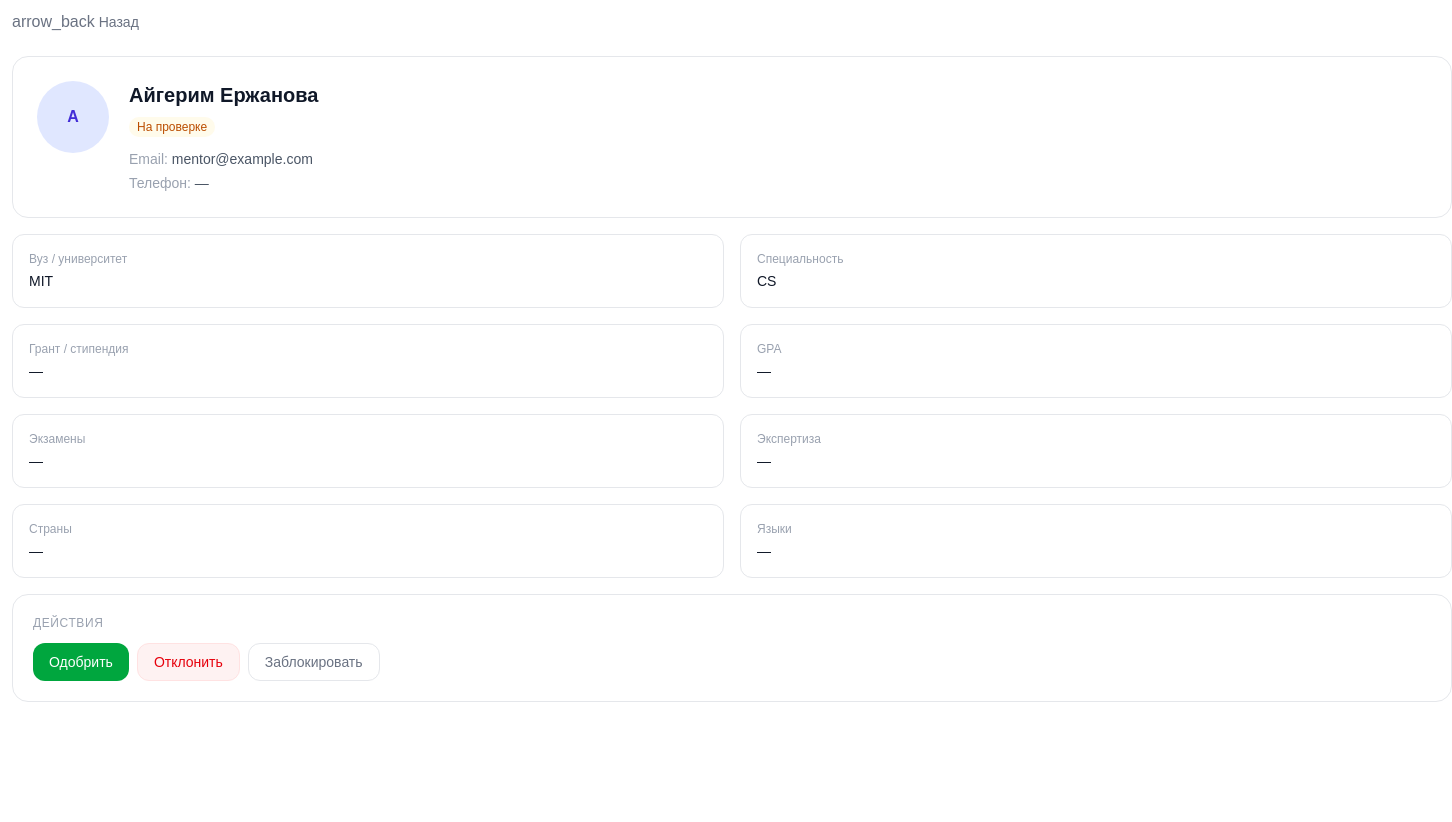
Test: CRMMentorDetailPage › rejects a submitted, unapproved mentor
The width and height of the screenshot is (1452, 822).
Expected: the heading "Айгерим Ержанова" is shown, x1=129 y1=84 x2=318 y2=106
Click the button "Отклонить" at (188, 662), box x1=137 y1=643 x2=240 y2=681
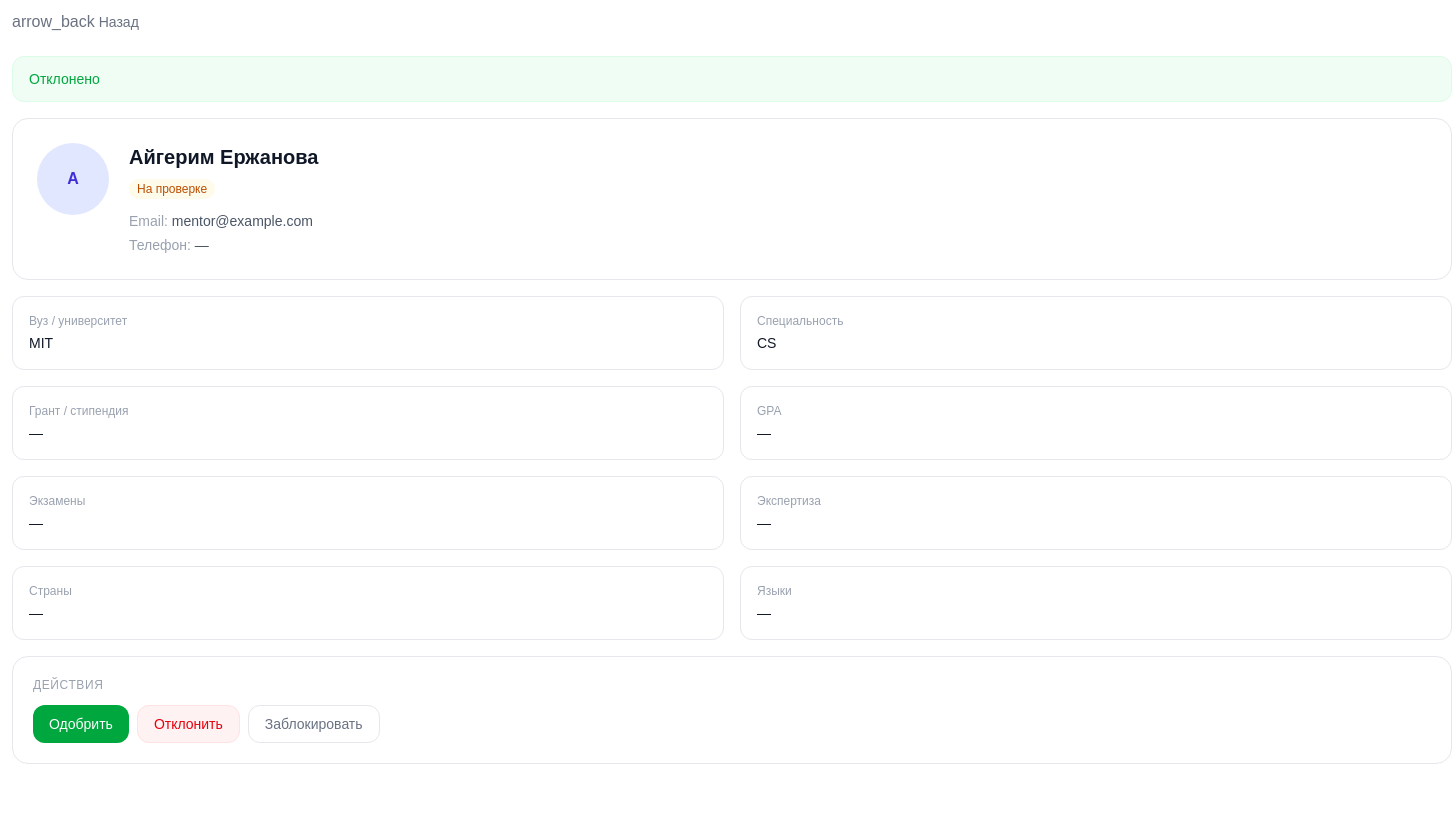
Now the text "Отклонено" is shown, box x1=12 y1=56 x2=1451 y2=102
